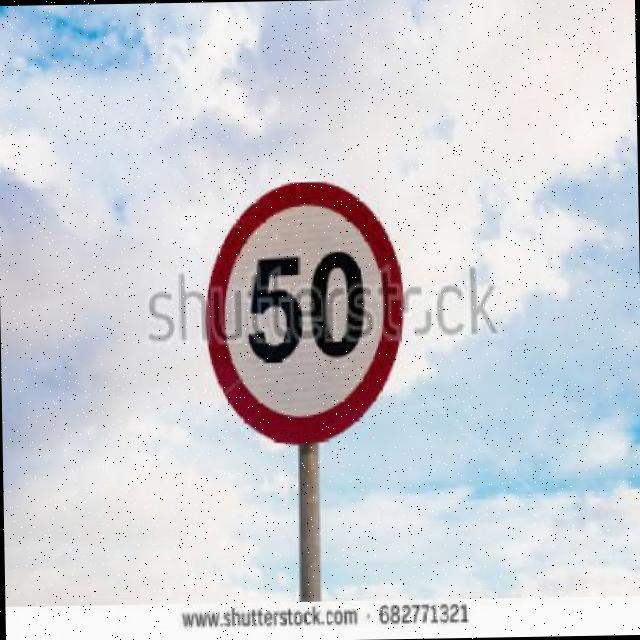Ograniczenie predkosci do 50: (204, 176, 404, 442)
